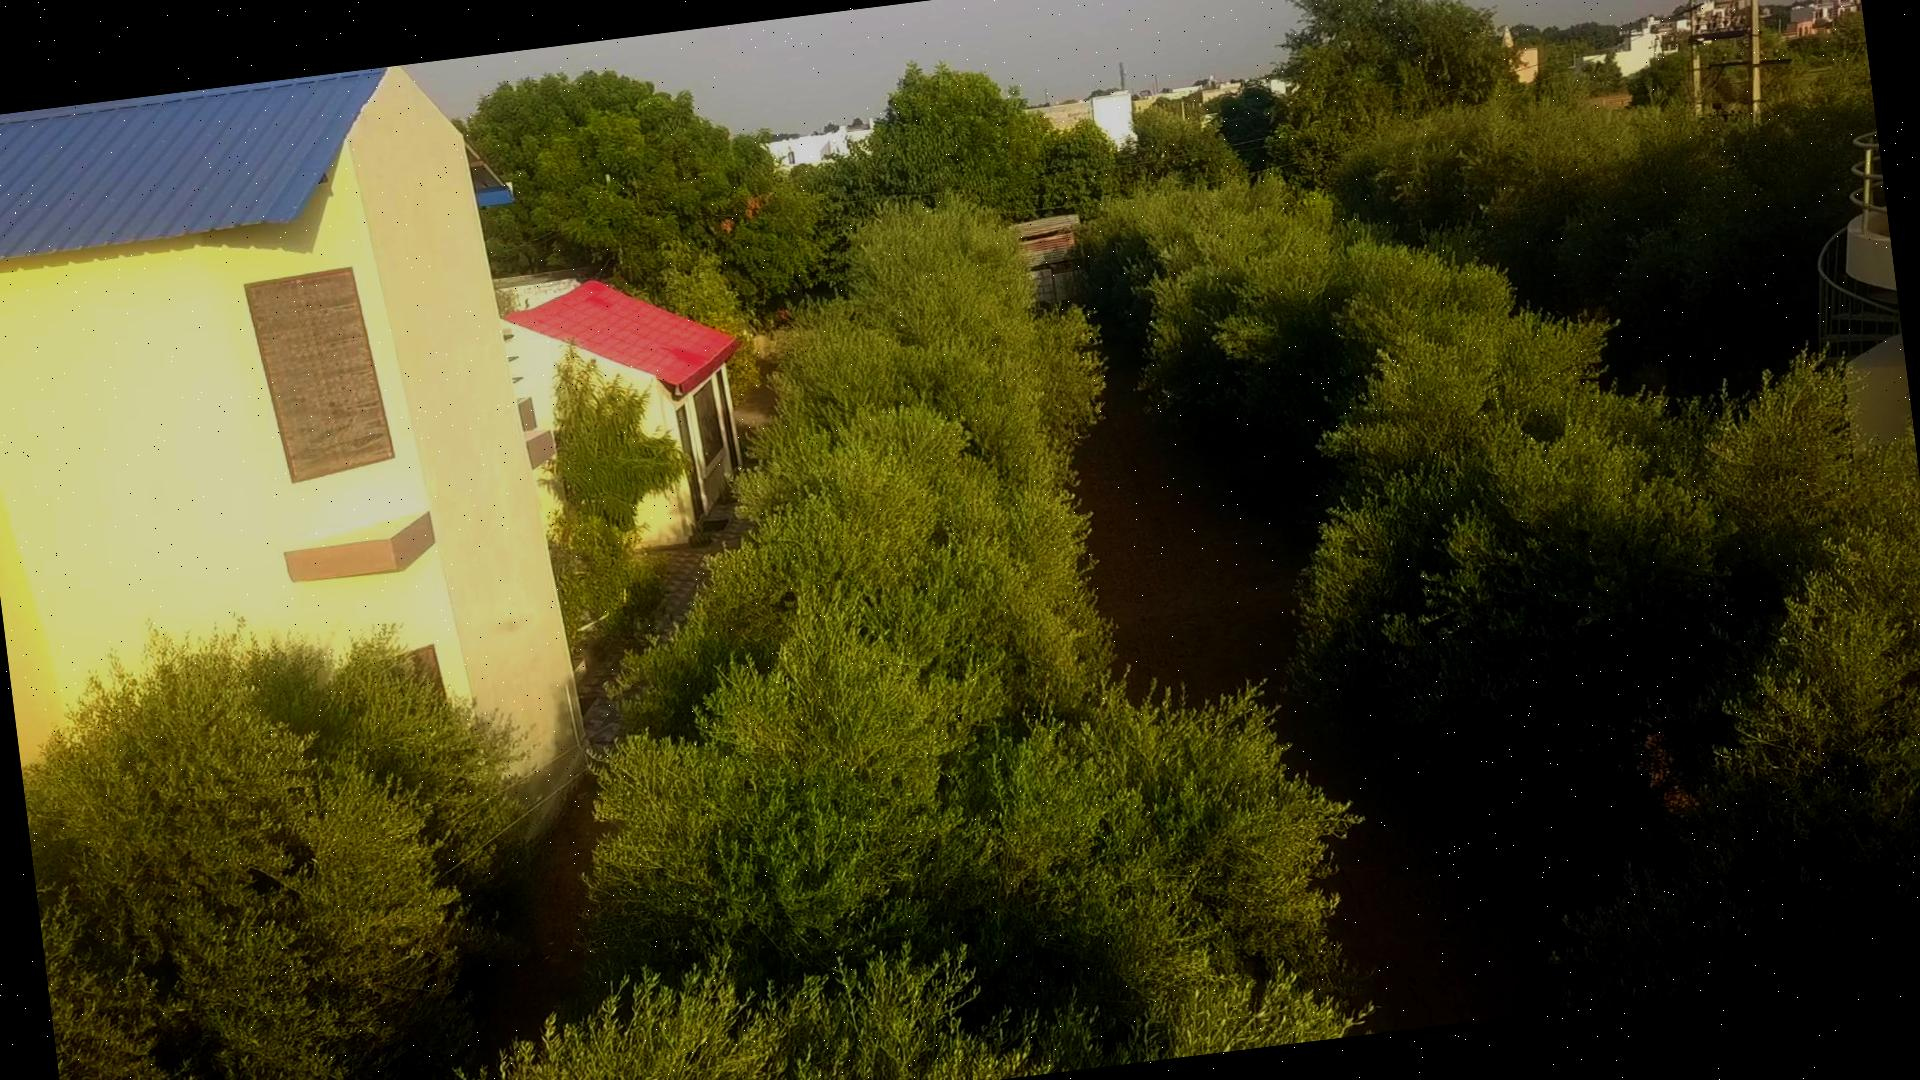canopy: (505, 204, 1362, 1080), (1105, 183, 1920, 1000), (21, 638, 508, 1080)
road: (1075, 361, 1626, 1031), (431, 773, 599, 1080)
